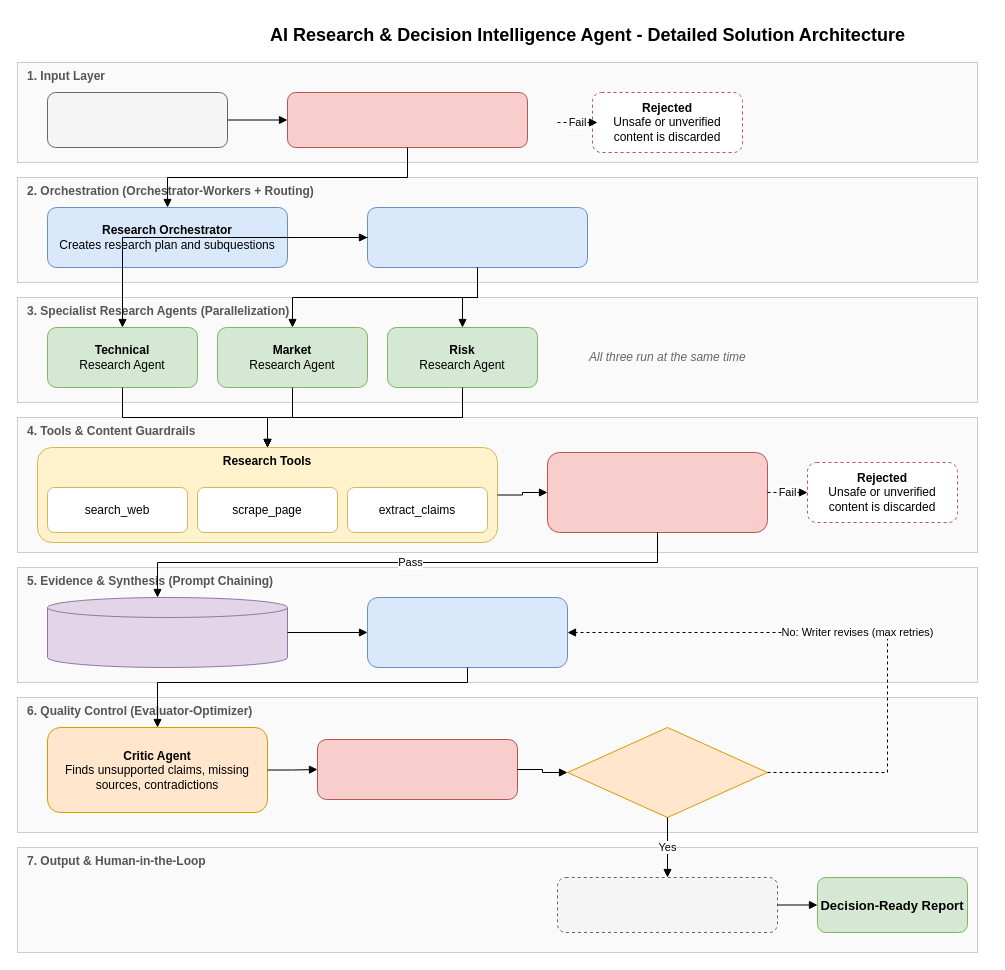
This 1005x970 diagram has some shape labels left out. Here are the shapes that lost their labels. From the top down, the centre of each, then its label:
the point at 137,120: User Business / technical question
the point at 407,120: Input Guardrail Check request is clear and safe
the point at 477,237: Router Sends each subquestion to the right specialist
the point at 657,492: Content Guardrails Prompt-injection scan validate_source: real and trusted?
the point at 167,632: Evidence Store save_evidence · compare_sources
the point at 467,632: Writer Agent Synthesis · generate_report
the point at 417,769: Structure Validator Checks report sections are complete
the point at 667,772: Approved?
the point at 667,904: Human Approval Optional, for high-impact recommendations
